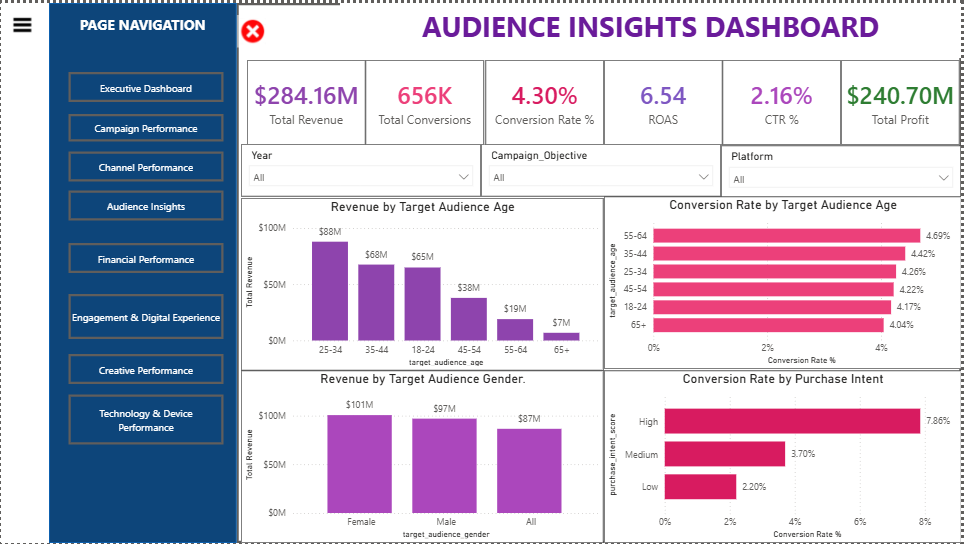

The page's visual inventory and layout, read from the dashboard file:
{"tool":"powerbi","page":{"name":"Audience Insights","canvas":[1280,720],"ordinal":3},"visuals":[{"type":"cardVisual","fields":{"Data":["Measure Table.Total Revenue"]},"box":[163.9,75.6,158.3,113.3],"z":0},{"type":"cardVisual","fields":{"Data":["Measure Table.Total Conversions"]},"box":[322.2,75.6,158.3,113.3],"z":1000},{"type":"cardVisual","fields":{"Data":["Measure Table.Conversion Rate %"]},"box":[480.6,75.6,158.3,113.3],"z":2000},{"type":"cardVisual","fields":{"Data":["Measure Table.ROAS"]},"box":[638.9,75.6,158.3,113.3],"z":3000},{"type":"cardVisual","fields":{"Data":["Measure Table.CTR %"]},"box":[797.2,75.6,158.3,113.3],"z":4000},{"type":"cardVisual","fields":{"Data":["Measure Table.Total Profit"]},"box":[955.6,75.6,158.3,113.3],"z":5000},{"type":"slicer","fields":{"Values":["Dim Date.Year"]},"box":[0,188.9,426.7,70],"z":6000},{"type":"slicer","fields":{"Values":["Marketing Data.platform"]},"box":[853.3,188.9,426.7,70],"z":7000},{"type":"slicer","fields":{"Values":["Marketing Data.campaign_objective"]},"box":[426.7,188.9,426.7,70],"z":8000},{"type":"clusteredColumnChart","title":"Revenue by Target Audience Age","fields":{"Category":["Marketing Data.target_audience_age"],"Y":["Measure Table.Total Revenue"]},"box":[0,258.8,640,230],"z":9000},{"type":"clusteredBarChart","title":"Conversion Rate by Purchase Intent","fields":{"Category":["Marketing Data.purchase_intent_score"],"Y":["Measure Table.Conversion Rate %"]},"box":[638.3,488.3,640,230],"z":10000},{"type":"clusteredColumnChart","title":"Revenue by Target Audience Gender.","fields":{"Category":["Marketing Data.target_audience_gender"],"Y":["Measure Table.Total Revenue"]},"box":[0,488.3,640,230],"z":11000},{"type":"clusteredBarChart","title":"Conversion Rate by Target Audience Age","fields":{"Category":["Marketing Data.target_audience_age"],"Y":["Measure Table.Conversion Rate %"]},"box":[640,258.8,640,230],"z":12000},{"type":"textbox","box":[0,0,1280,75],"z":13000}]}

Visuals, with their boxes in screenshot pixels (x1, y1, x2, y2), scaled from the page's 1280x720 canvas onto the 964x544 screenshot:
cardVisual - Measure Table.Total Revenue: 123/57/243/143
cardVisual - Measure Table.Total Conversions: 243/57/362/143
cardVisual - Measure Table.Conversion Rate %: 362/57/481/143
cardVisual - Measure Table.ROAS: 481/57/600/143
cardVisual - Measure Table.CTR %: 600/57/720/143
cardVisual - Measure Table.Total Profit: 720/57/839/143
slicer - Dim Date.Year: 0/143/321/196
slicer - Marketing Data.platform: 643/143/963/196
slicer - Marketing Data.campaign_objective: 321/143/643/196
"Revenue by Target Audience Age" clusteredColumnChart: 0/196/482/369
"Conversion Rate by Purchase Intent" clusteredBarChart: 481/369/963/543
"Revenue by Target Audience Gender." clusteredColumnChart: 0/369/482/543
"Conversion Rate by Target Audience Age" clusteredBarChart: 482/196/963/369
textbox: 0/0/963/57
